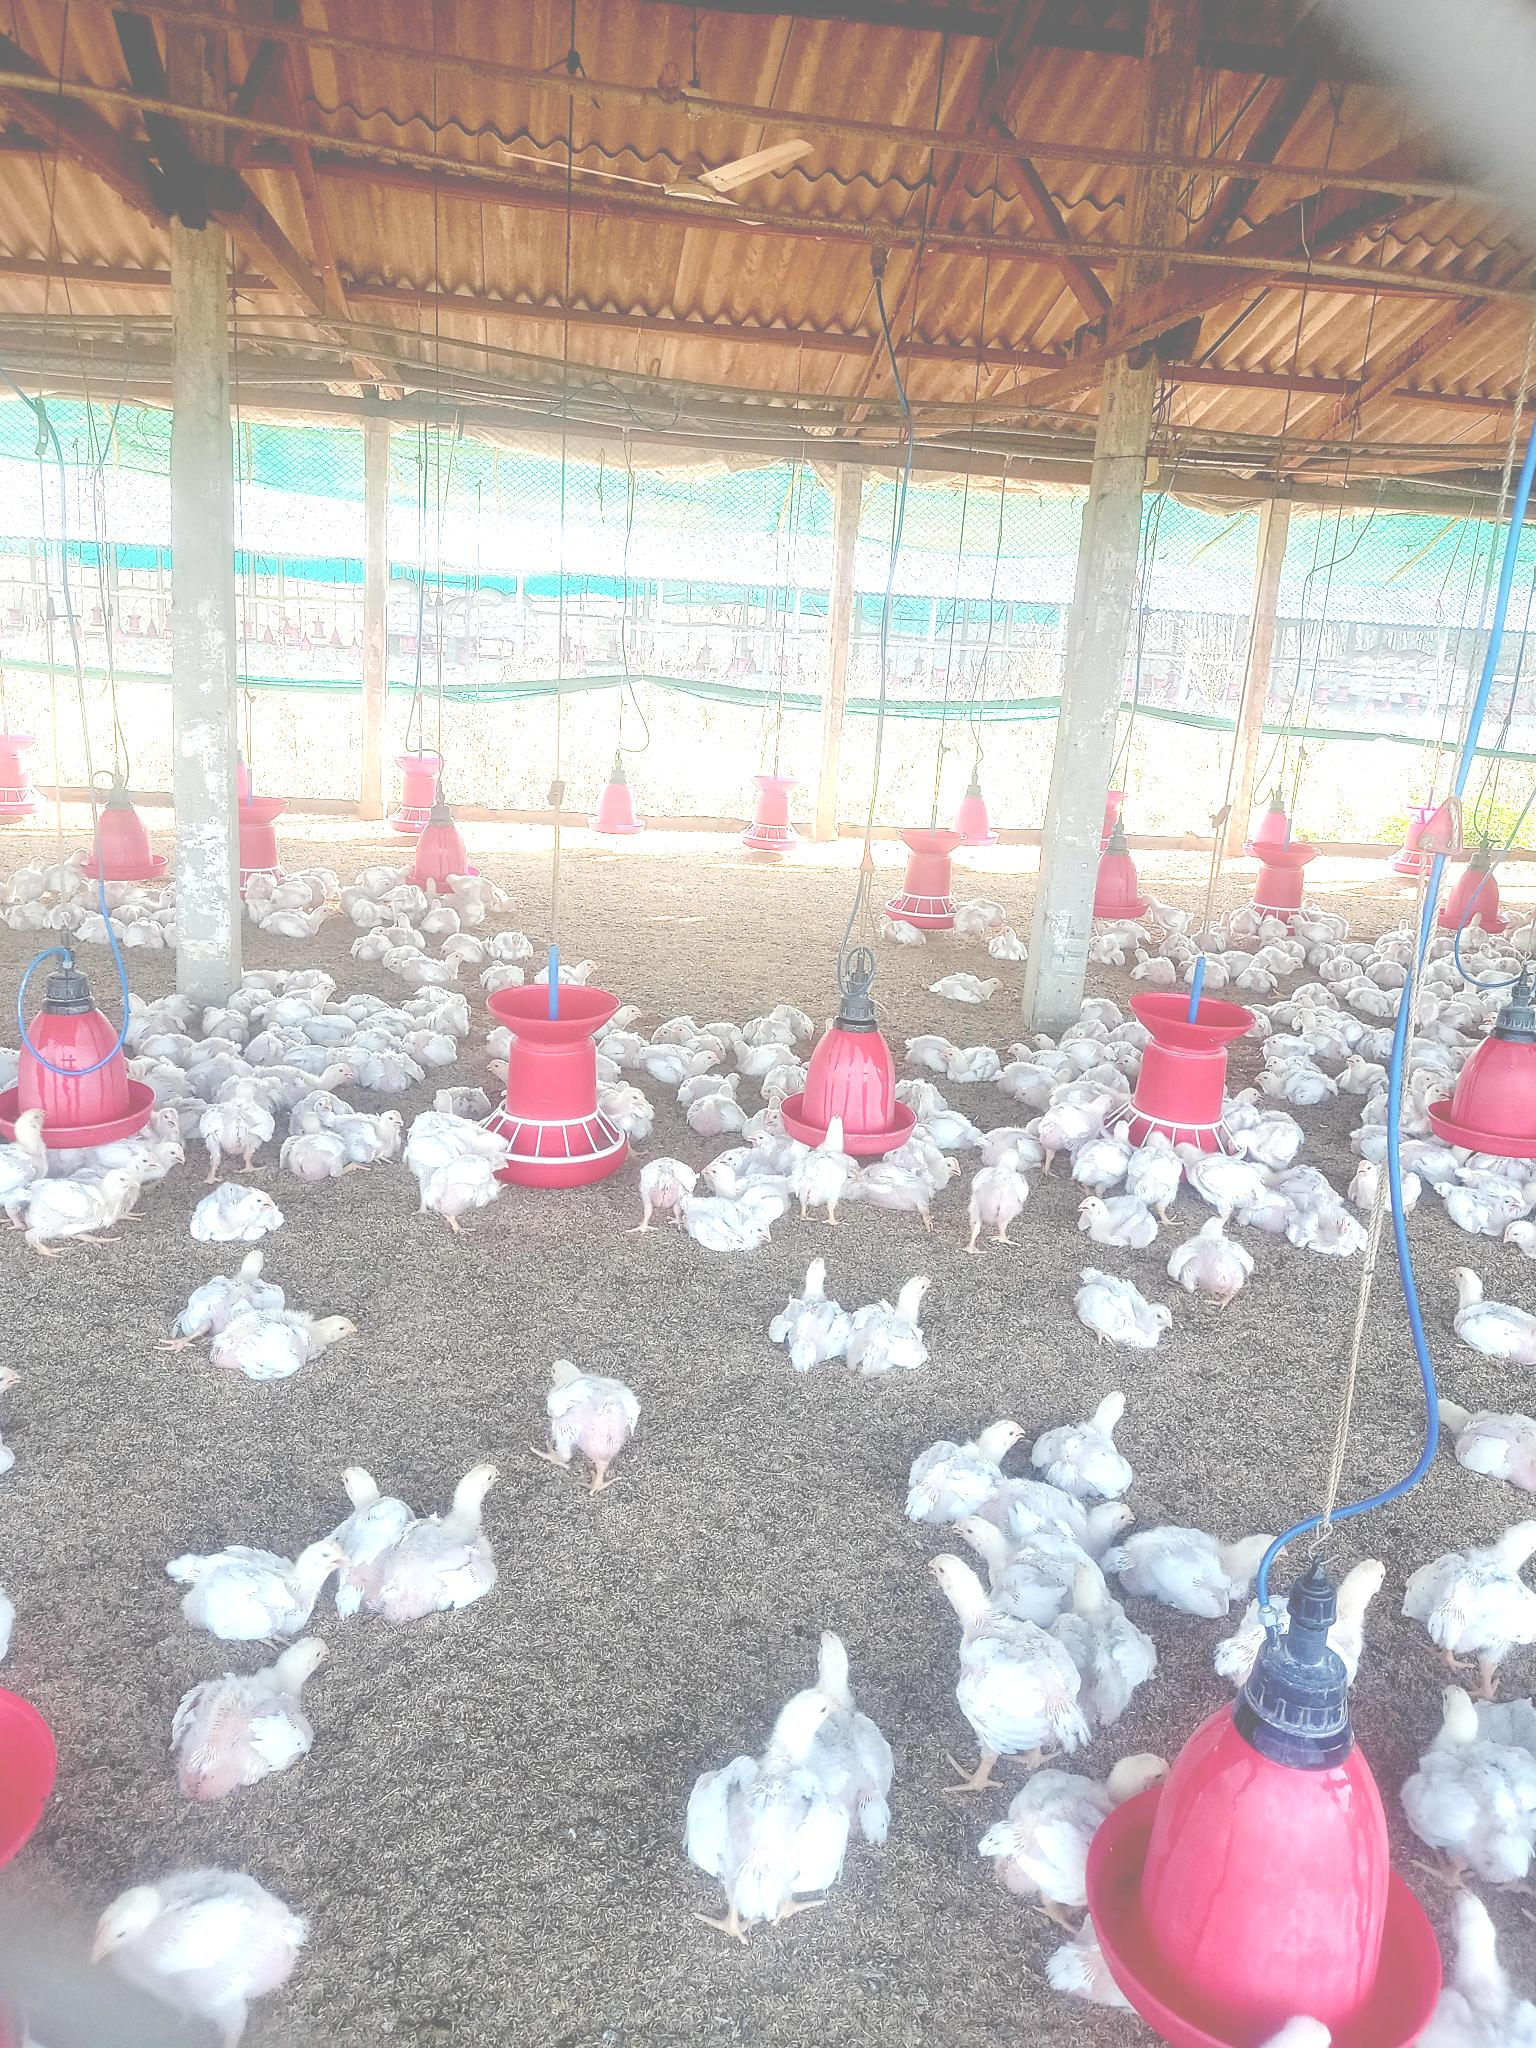Pollos: (89, 1863, 316, 2029), (699, 1693, 845, 1925), (920, 1550, 1078, 1759), (997, 1738, 1173, 1896), (171, 1637, 332, 1800), (1426, 1679, 1536, 1888), (395, 1463, 511, 1616), (161, 1542, 345, 1637), (1428, 1516, 1536, 1658), (1133, 1530, 1296, 1605), (547, 1356, 641, 1471), (23, 1164, 136, 1253), (1434, 1397, 1536, 1492), (1449, 1263, 1536, 1371), (1078, 1263, 1179, 1355), (1054, 1388, 1137, 1492), (928, 1421, 1021, 1513), (211, 1314, 358, 1371), (794, 1253, 854, 1371), (865, 1276, 937, 1372), (1176, 1137, 1265, 1214), (1426, 1177, 1521, 1242), (418, 1143, 500, 1214), (792, 1118, 849, 1221), (200, 1174, 282, 1242), (190, 1251, 265, 1324), (1057, 1492, 1134, 1561), (195, 1097, 273, 1166), (1071, 1193, 1163, 1251), (342, 1459, 387, 1572), (975, 1147, 1031, 1234), (324, 1105, 405, 1163), (1036, 1093, 1117, 1151), (1196, 1216, 1247, 1300), (695, 1201, 771, 1258), (1296, 1201, 1379, 1251), (891, 1142, 965, 1197), (260, 982, 336, 1032), (2, 1106, 47, 1185), (705, 1159, 783, 1200), (644, 1164, 703, 1214), (265, 1063, 349, 1098), (691, 1085, 741, 1143), (594, 1082, 650, 1132), (1228, 1119, 1297, 1159), (641, 1048, 721, 1082), (1346, 1161, 1404, 1206), (941, 1043, 1005, 1084), (733, 1037, 808, 1071), (1255, 1069, 1328, 1103), (933, 972, 1007, 1005), (263, 905, 332, 939), (402, 1026, 457, 1068), (1033, 1032, 1100, 1064), (879, 913, 929, 951), (415, 951, 466, 987), (1404, 1085, 1444, 1130), (1262, 1030, 1317, 1061), (1254, 947, 1305, 977), (539, 959, 599, 985), (1139, 950, 1183, 984), (992, 926, 1029, 964), (1347, 1058, 1388, 1092), (357, 924, 394, 959), (495, 930, 536, 963), (1297, 985, 1336, 1009)
